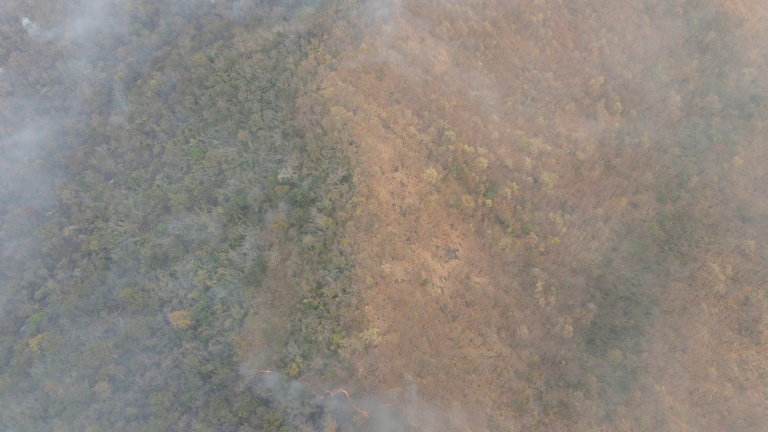fire: (317, 390, 430, 432), (259, 368, 283, 378)
smoke: (1, 1, 226, 432), (231, 1, 476, 114), (259, 361, 463, 432)
